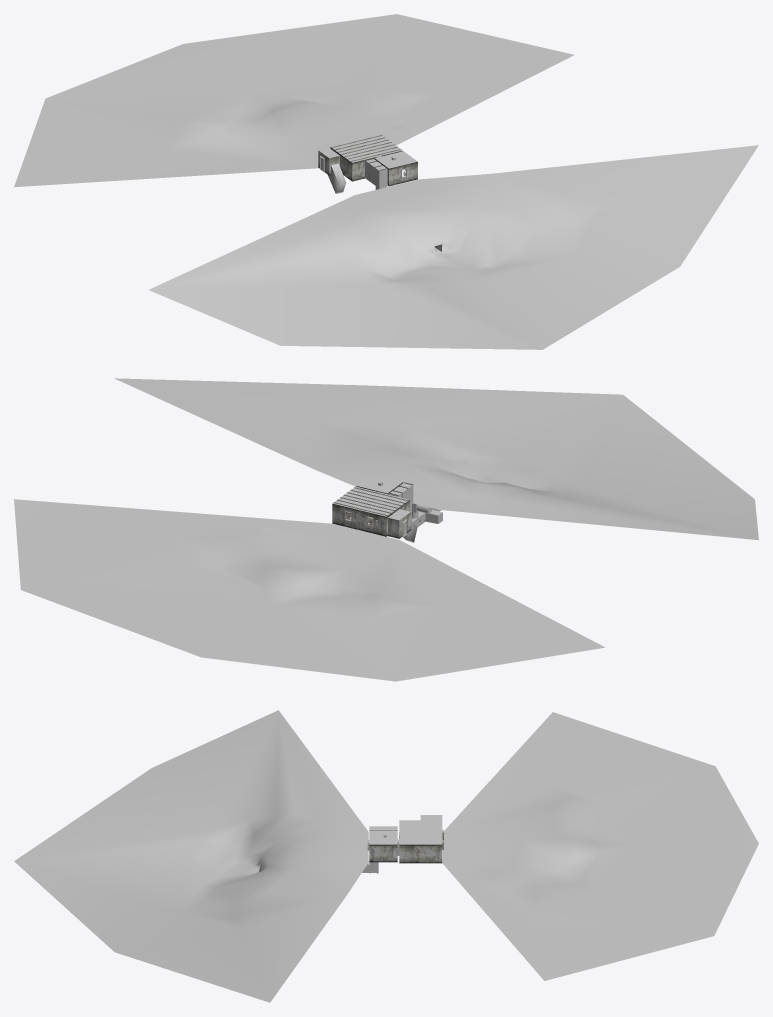
Rendered from House.fbx.
3 views of the same model, one above another, from view 1: azimuth 30°, elevation 25°; view 2: azimuth 150°, elevation 25°; view 3: azimuth 270°, elevation 25° (orthographic). The views are drawn at different scales.
Visible parts, largest first — view 1: Lansdcape, Main_Room, Bathroom, Corridor; view 2: Lansdcape, Main_Room, Corridor, Tunnel, Bathroom; view 3: Lansdcape, Main_Room, Bathroom.
Part boxes in pixels (bbox=[...]): Lansdcape: bbox=[14, 14, 758, 349]; Main_Room: bbox=[330, 134, 402, 181]; Bathroom: bbox=[374, 151, 417, 186]; Corridor: bbox=[318, 148, 346, 193]; Lansdcape: bbox=[14, 378, 758, 681]; Main_Room: bbox=[332, 486, 409, 536]; Corridor: bbox=[388, 509, 417, 542]; Tunnel: bbox=[410, 503, 442, 527]; Bathroom: bbox=[356, 474, 402, 494]; Lansdcape: bbox=[14, 710, 758, 1002]; Main_Room: bbox=[398, 820, 443, 863]; Bathroom: bbox=[367, 831, 399, 862].
Bounding box in the file's own units: 9469 × 716 × 10185.
